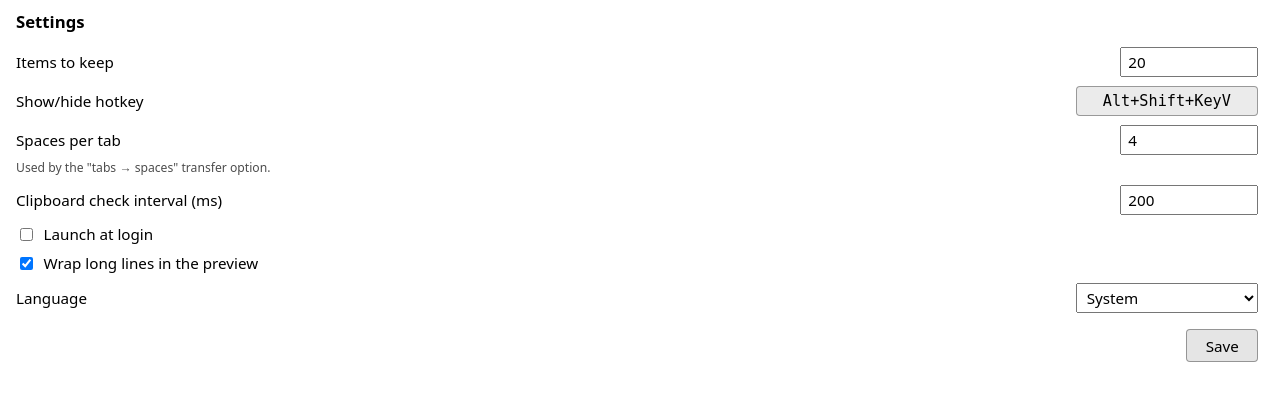
Test case: SettingsWindow — saving › stays open when saving fails, so the input can be corrected
The width and height of the screenshot is (1275, 402).
Expected: the number field labelled "Items to keep" is shown, top-left (1120, 47), bottom-right (1258, 77)
Click the button "Save" at (1222, 346), box top-left (1186, 329), bottom-right (1258, 362)
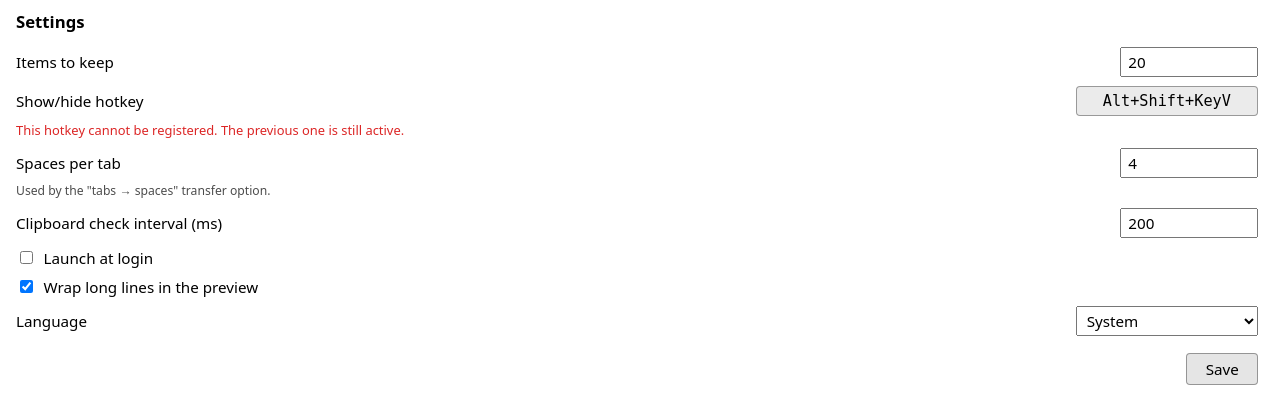
Result: the text with test id "error-hotkey" is shown at top-left (16, 121), bottom-right (404, 139)
